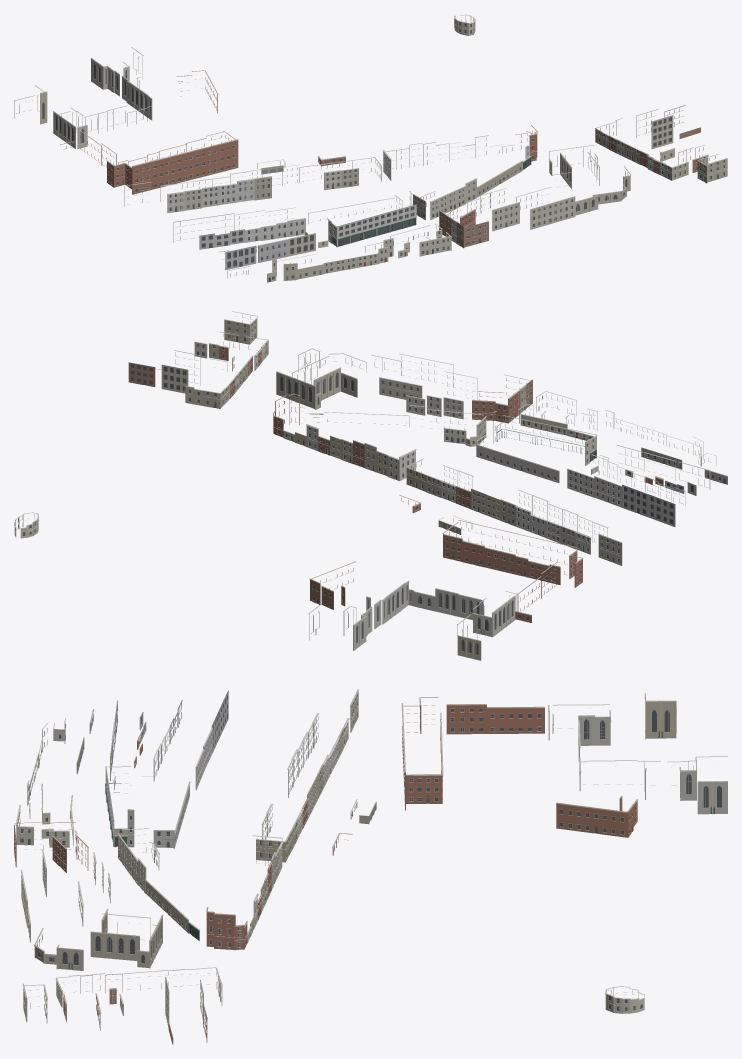
The picture shows the model from 3 angles, top to bottom: view 1: azimuth 30°, elevation 25°; view 2: azimuth 150°, elevation 25°; view 3: azimuth 270°, elevation 25°; orthographic projection. The views are drawn at different scales.
Parts seen in each view (by area): view 1: f:way/13208181, f:way/100355821, f:way/172317135, f:way/161063746, f:way/100355822, f:way/1037990953, f:way/136342053, f:way/161063739, f:way/137027734, f:way/172312075, f:way/137027741, f:way/855161116 (+9 smaller); view 2: f:way/13208181, f:way/161063739, f:way/100355822, f:way/100355821, f:way/161063746, f:relation/2298535, f:way/136342053, f:way/137027734, f:way/137027741, f:way/855161122, f:way/172317135, f:way/855161123 (+10 smaller); view 3: f:way/100355822, f:way/13208132, f:way/161063743, f:way/161063746, f:way/13208181, f:way/100355820, f:way/161063739, f:way/161063775, f:relation/2298535, f:way/136342053, f:way/100355821, f:way/224655792 (+4 smaller).
Boxes of the visible parts, left/top/right/bottom form: f:way/13208181: left=107, top=131, right=238, bottom=194; f:way/100355821: left=466, top=187, right=575, bottom=231; f:way/172317135: left=331, top=204, right=416, bottom=247; f:way/161063746: left=91, top=47, right=152, bottom=120; f:way/100355822: left=549, top=145, right=630, bottom=215; f:way/1037990953: left=277, top=253, right=378, bottom=280; f:way/136342053: left=412, top=178, right=477, bottom=220; f:way/161063739: left=53, top=105, right=151, bottom=148; f:way/137027734: left=636, top=109, right=673, bottom=149; f:way/172312075: left=457, top=221, right=488, bottom=248; f:way/137027741: left=697, top=154, right=727, bottom=183; f:way/855161116: left=219, top=245, right=256, bottom=270; f:way/13208181: left=442, top=520, right=582, bottom=587; f:way/161063739: left=408, top=588, right=516, bottom=637; f:way/100355822: left=276, top=348, right=401, bottom=409; f:way/100355821: left=379, top=353, right=477, bottom=419; f:way/161063746: left=308, top=580, right=409, bottom=650; f:relation/2298535: left=476, top=411, right=589, bottom=482; f:way/136342053: left=410, top=405, right=486, bottom=446; f:way/137027734: left=161, top=350, right=200, bottom=393; f:way/137027741: left=224, top=311, right=257, bottom=344; f:way/855161122: left=622, top=476, right=671, bottom=517; f:way/172317135: left=496, top=415, right=597, bottom=461; f:way/855161123: left=648, top=486, right=685, bottom=526; f:way/100355822: left=27, top=907, right=163, bottom=970; f:way/13208132: left=446, top=704, right=553, bottom=734; f:way/161063743: left=556, top=795, right=637, bottom=837; f:way/161063746: left=580, top=756, right=727, bottom=814; f:way/13208181: left=401, top=697, right=443, bottom=810; f:way/100355820: left=206, top=907, right=247, bottom=950; f:way/161063739: left=548, top=704, right=611, bottom=791; f:way/161063775: left=644, top=693, right=676, bottom=739; f:relation/2298535: left=121, top=766, right=190, bottom=848; f:way/136342053: left=117, top=828, right=159, bottom=893; f:way/100355821: left=20, top=849, right=111, bottom=928; f:way/224655792: left=605, top=986, right=644, bottom=1013.
Size of the model in its own units: 252 by 16.67 by 230.
